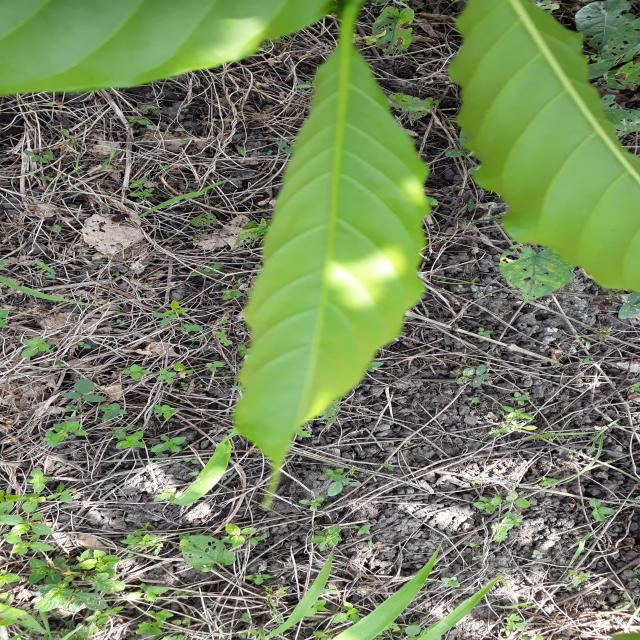Sanas: (231, 0, 430, 472)
